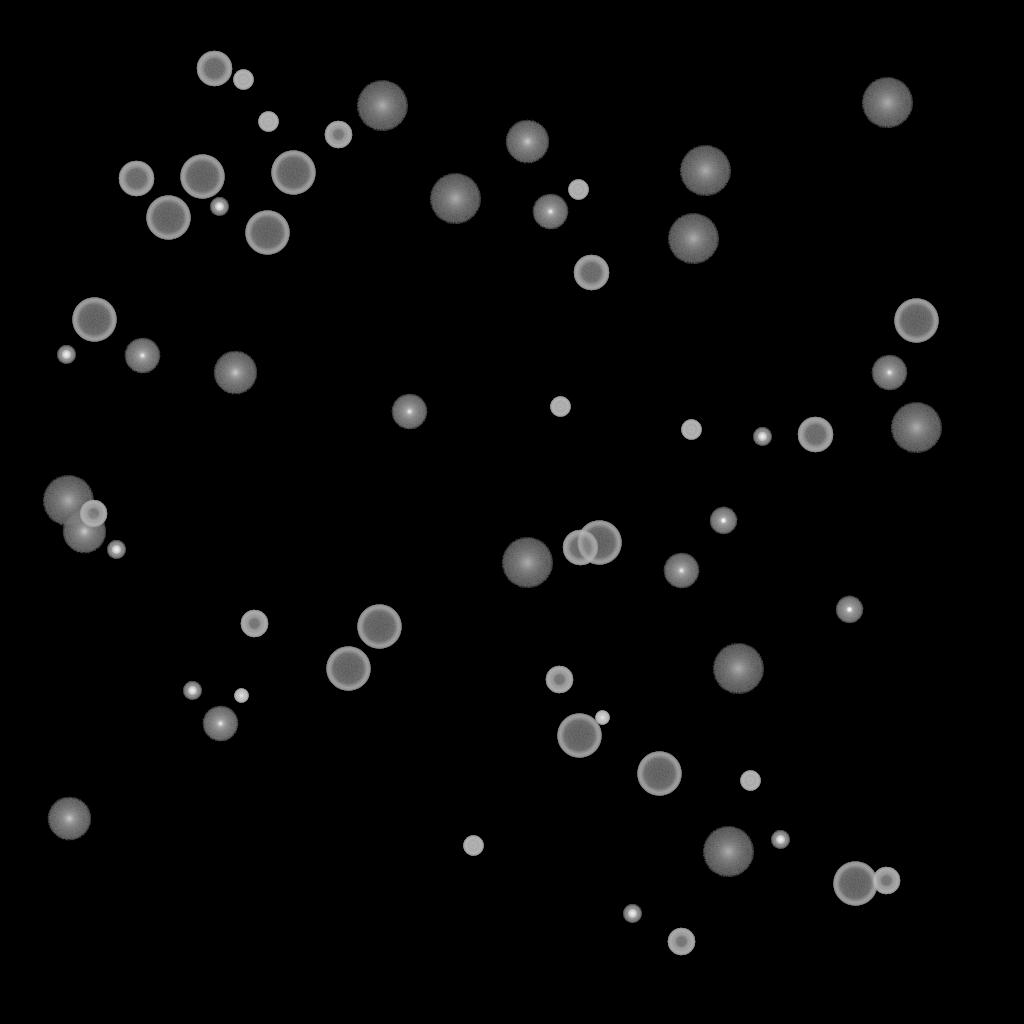depth:-10: (835, 596, 863, 624), (709, 507, 737, 535)
depth:-20: (771, 831, 789, 849), (623, 905, 641, 923), (57, 346, 75, 364), (183, 682, 201, 700), (210, 198, 228, 216), (107, 541, 125, 559), (753, 428, 771, 446)
depth:-30: (595, 711, 609, 725), (234, 689, 248, 703)
depth:-40: (550, 397, 570, 417), (233, 70, 253, 90), (463, 836, 483, 856), (681, 420, 701, 440), (258, 112, 278, 132), (740, 771, 760, 791), (568, 180, 588, 200)
depth:-50: (240, 610, 268, 638), (79, 500, 107, 528), (324, 121, 352, 149), (872, 867, 900, 895), (545, 666, 573, 694), (667, 928, 695, 956)
depth:-60: (797, 417, 833, 453), (562, 530, 598, 566), (196, 51, 232, 87), (573, 255, 609, 291), (118, 161, 154, 197)
depth:-70: (180, 155, 224, 199), (326, 647, 370, 691), (72, 298, 116, 342), (833, 862, 877, 906), (894, 299, 938, 343), (577, 521, 621, 565), (271, 151, 315, 195), (245, 211, 289, 255), (357, 605, 401, 649), (557, 714, 601, 758), (146, 196, 190, 240), (637, 752, 681, 796)
depth:0: (124, 338, 160, 374), (871, 355, 907, 391), (663, 553, 699, 589), (391, 394, 427, 430), (202, 706, 238, 742), (532, 194, 568, 230)
depth:10: (505, 120, 549, 164), (213, 351, 257, 395), (47, 797, 91, 841), (62, 510, 106, 554)
depth:20: (356, 81, 408, 131), (861, 78, 913, 128), (679, 146, 731, 196), (712, 644, 764, 694), (667, 214, 719, 264), (702, 827, 754, 877), (429, 174, 481, 224), (890, 403, 942, 453), (42, 476, 94, 526), (501, 538, 553, 588)
